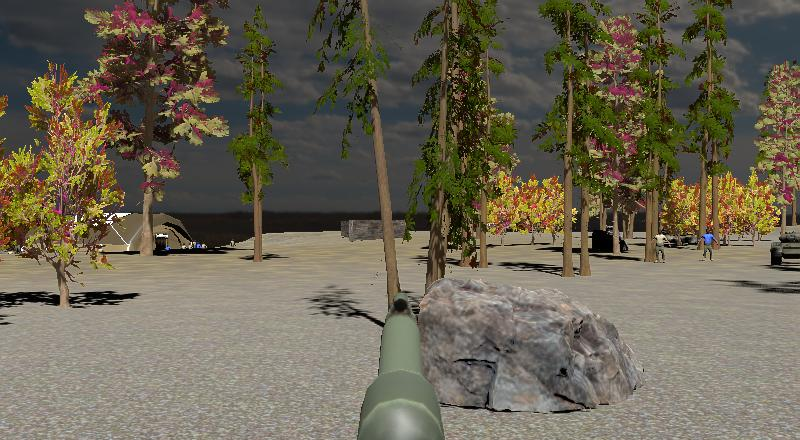Human: (700, 227, 718, 262), (652, 229, 669, 264)
Tank: (770, 231, 800, 270)
